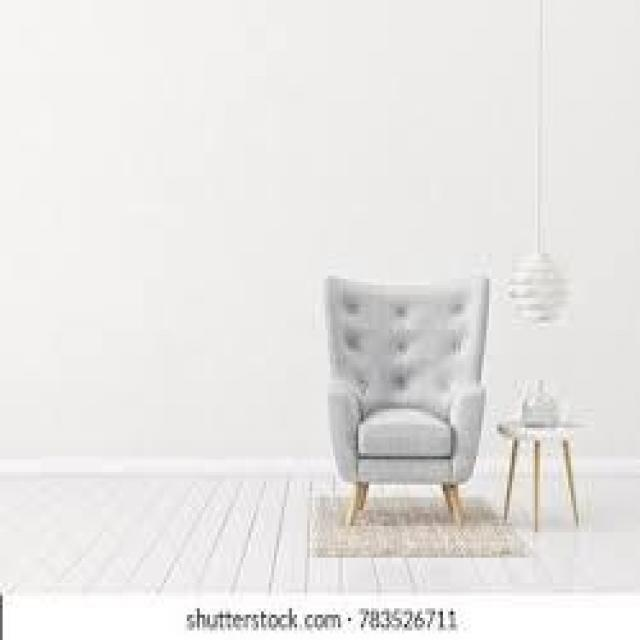chair: (266, 201, 504, 550)
